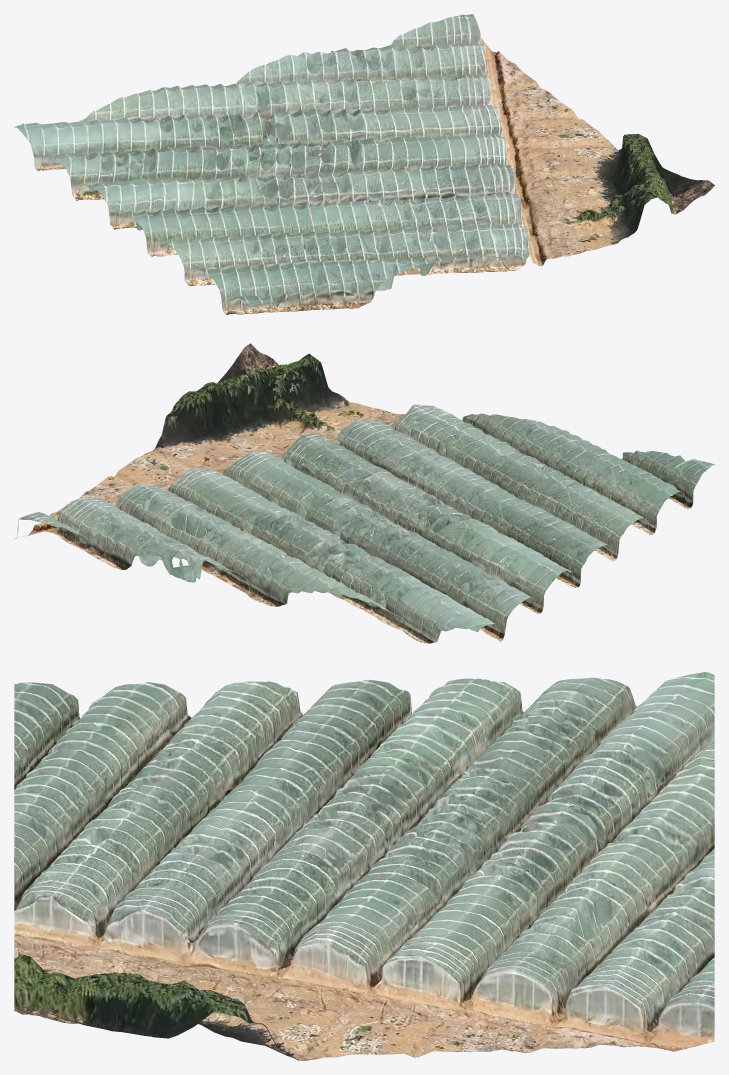
The model's file is BlockYB_L20_180.glb.
The picture shows the model from 3 angles, top to bottom: view 1: azimuth 30°, elevation 25°; view 2: azimuth 150°, elevation 25°; view 3: azimuth 270°, elevation 25°; orthographic projection. The views are drawn at different scales.
Visible parts, largest first — view 1: rtc; view 2: rtc; view 3: rtc.
Boxes of the visible parts, box(x1,y1,x2,y2) form: rtc: box(14, 14, 714, 314); rtc: box(14, 343, 714, 643); rtc: box(14, 672, 714, 1060).
Size of the model in its own units: 43.23 by 4.05 by 38.19.
Materials: 6 (6 with a texture image).
